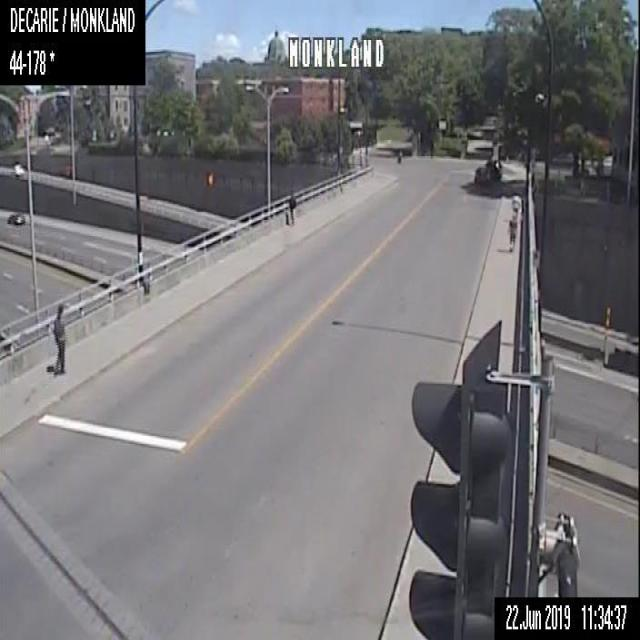pedestrian: (51, 300, 67, 376), (511, 192, 521, 232), (508, 210, 518, 250), (288, 190, 296, 226)
vehicle: (474, 161, 500, 183), (6, 212, 24, 224)
